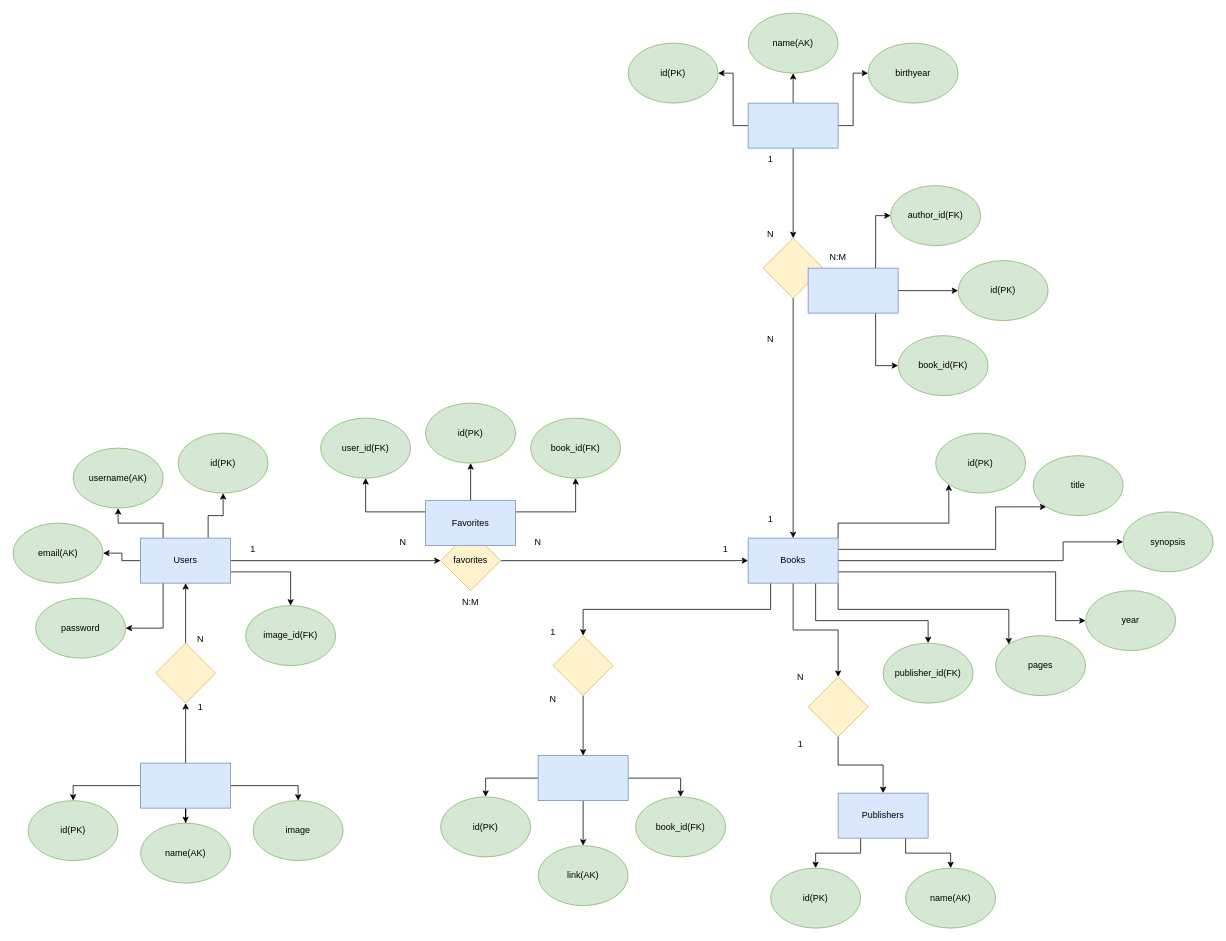
Some shapes in this 1226 by 941 pixel diagram are drawn without their labels. Each missing label, with the centre of its shape:
Authors: point 792,125
BooksAuthors: point 852,290
includes: point 582,665
ProfileImages: point 185,785
publish: point 837,706
PurchaseLinks: point 582,778
uses: point 185,672
wrote: point 792,267
